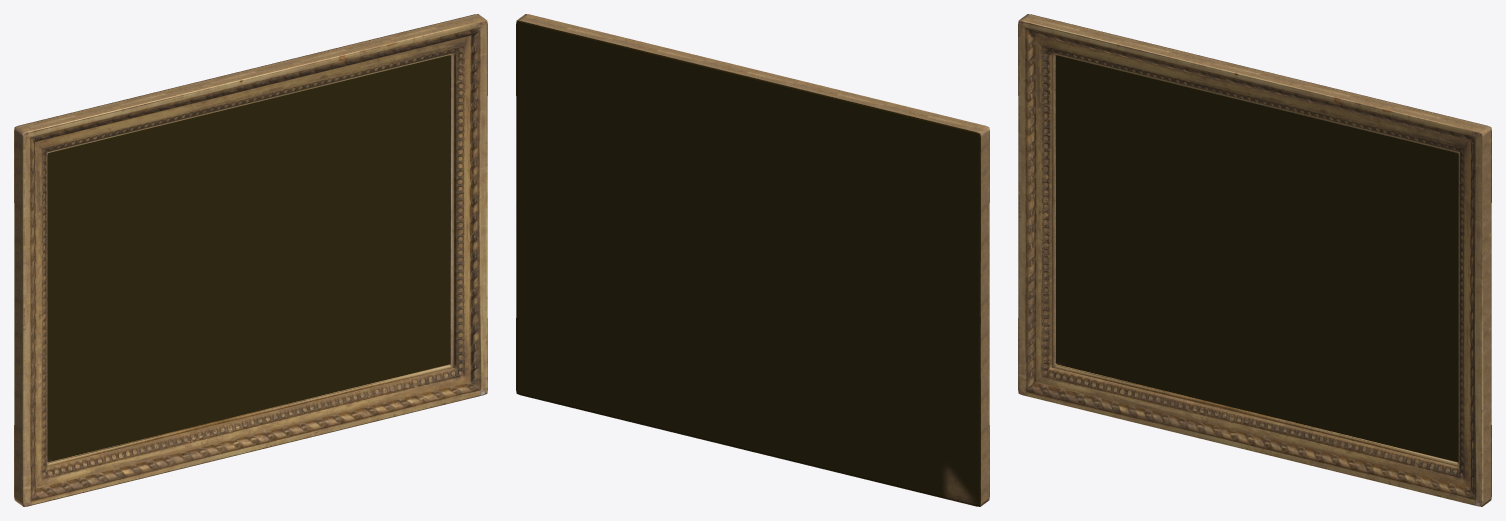
Rendered from fancy_picture_frame.obj.
3 renders of one model, left to right at view 1: azimuth 30°, elevation 25°; view 2: azimuth 150°, elevation 25°; view 3: azimuth 330°, elevation 25°, orthographic.
Visible parts, largest first — view 1: fancy_picture_frame_01; view 2: fancy_picture_frame_01; view 3: fancy_picture_frame_01.
Boxes of the visible parts, x1,y1,x2,y2 form: fancy_picture_frame_01: (14, 14, 487, 506); fancy_picture_frame_01: (516, 14, 989, 506); fancy_picture_frame_01: (1018, 14, 1491, 506).
Bounding box in the file's own units: 0.603 × 0.4641 × 0.02.
Materials: 1 (1 with a texture image).
